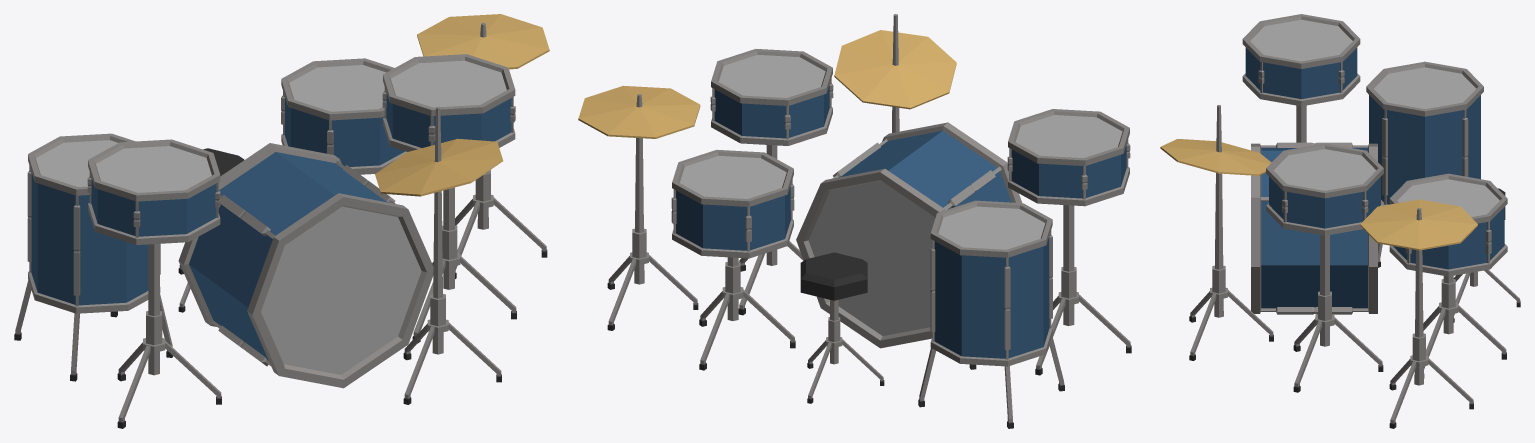
File: SM_Props_Concert_Drums.fbx
The picture shows the model from 3 angles, left to right: view 1: azimuth 30°, elevation 25°; view 2: azimuth 150°, elevation 25°; view 3: azimuth 270°, elevation 25°; orthographic projection. The views are drawn at different scales.
Parts seen in each view (by area): view 1: SM_Props_Concert_Drums; view 2: SM_Props_Concert_Drums; view 3: SM_Props_Concert_Drums.
Part boxes in pixels (x1,y1,x2,y2): SM_Props_Concert_Drums: (14,14,549,428); SM_Props_Concert_Drums: (578,14,1131,428); SM_Props_Concert_Drums: (1160,14,1520,428).
Bounding box in the file's own units: 317 × 162 × 223.
